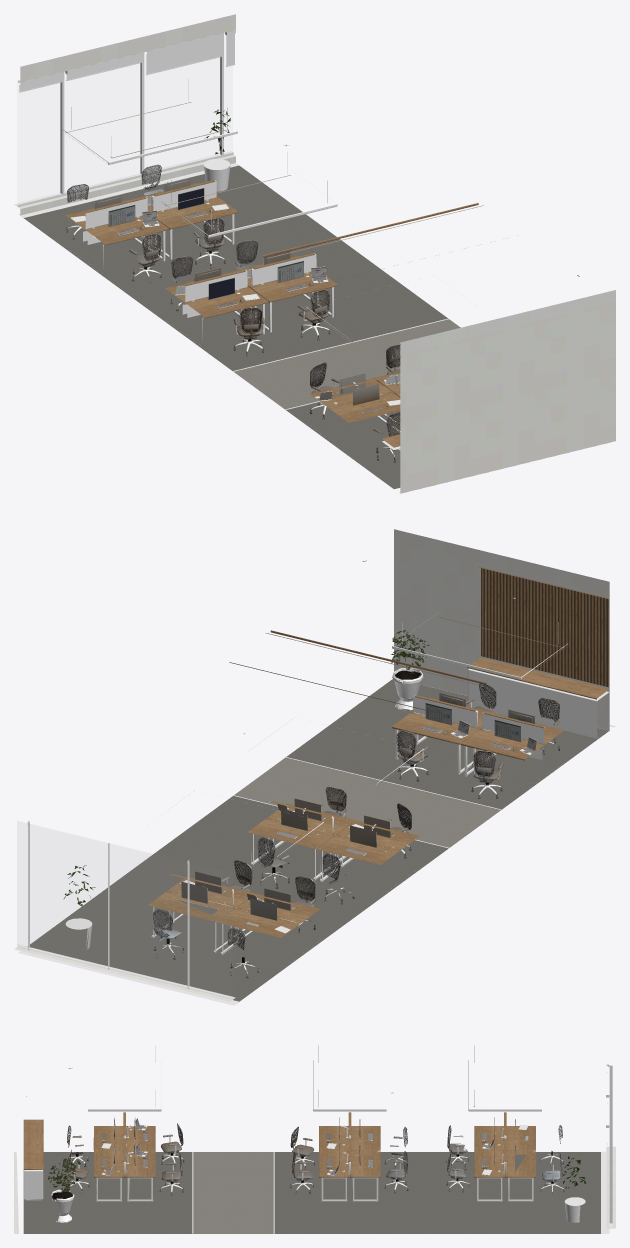
The model's file is z-open_c-lite.light.6b922584.glb.
3 views of the same model, one above another, from view 1: azimuth 30°, elevation 25°; view 2: azimuth 150°, elevation 25°; view 3: azimuth 270°, elevation 25° (orthographic). The views are drawn at different scales.
Parts seen in each view (by area): view 1: open_c_carpet, open_c_plaster, open_c_satin, open_c_fx, open_c_oak, open_c_emit, open_c_metal_lit; view 2: open_c_carpet, open_c_plaster, open_c_oak, open_c_satin, open_c_fx, open_c_proxy_slat, open_c_emit, open_c_veg_atlas, open_c_metal_lit; view 3: open_c_carpet, open_c_oak, open_c_satin, open_c_fx, open_c_metal_lit, open_c_plaster, open_c_veg_atlas.
Boxes of the visible parts, box(x1,y1,x2,y2) form: open_c_carpet: box(24, 165, 460, 488); open_c_plaster: box(14, 14, 615, 493); open_c_satin: box(16, 30, 579, 449); open_c_fx: box(66, 164, 400, 462); open_c_oak: box(65, 180, 478, 447); open_c_emit: box(65, 102, 483, 342); open_c_metal_lit: box(23, 145, 400, 456); open_c_carpet: box(27, 679, 609, 1002); open_c_plaster: box(14, 529, 615, 1001); open_c_oak: box(148, 630, 609, 937); open_c_satin: box(16, 560, 608, 1005); open_c_fx: box(152, 683, 560, 978); open_c_proxy_slat: box(481, 568, 608, 687); open_c_emit: box(266, 566, 607, 857); open_c_veg_atlas: box(63, 630, 429, 906); open_c_metal_lit: box(162, 696, 553, 1001); open_c_carpet: box(23, 1152, 600, 1233); open_c_oak: box(23, 1112, 535, 1177); open_c_satin: box(24, 1045, 612, 1233); open_c_fx: box(65, 1117, 564, 1195); open_c_metal_lit: box(67, 1092, 601, 1233); open_c_plaster: box(14, 1146, 615, 1233); open_c_veg_atlas: box(48, 1156, 586, 1199).
Bounding box in the file's own units: 5 × 3.35 × 15.5.
Materials: 10 (7 with a texture image).
